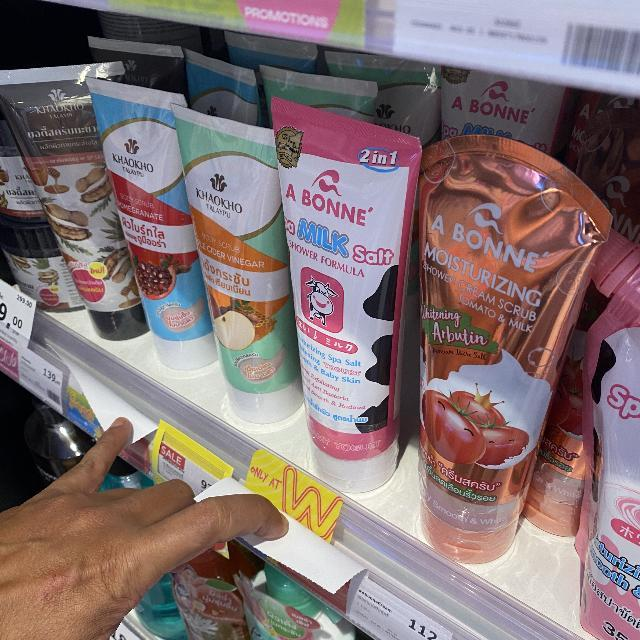Squeeze Tube: (3, 42, 610, 564)
